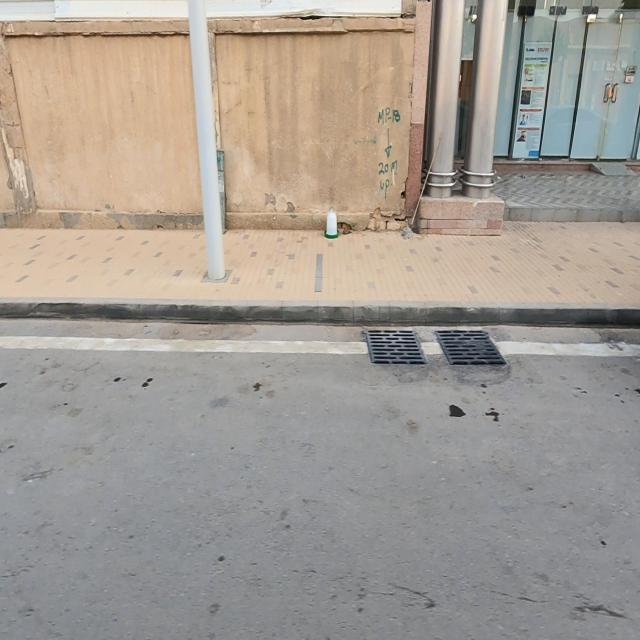Graffiti: (377, 104, 401, 200)
